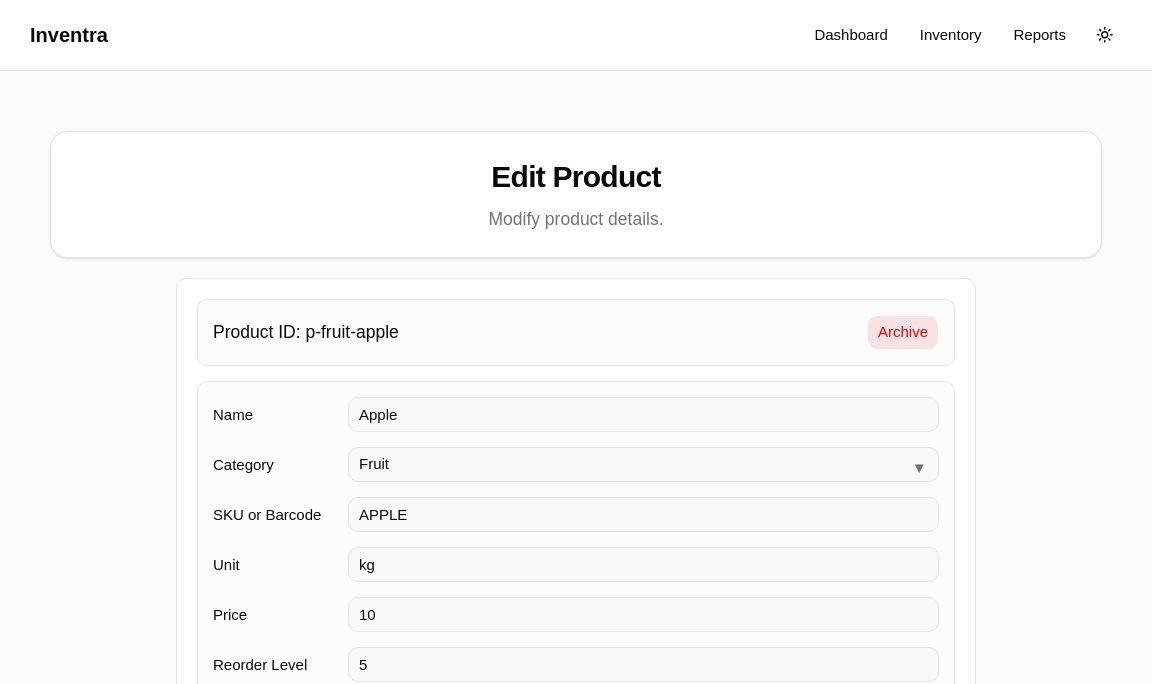
Product Edit Page Tests › requires name, category and unit to submit
The width and height of the screenshot is (1152, 684).
Clear the field labelled "Name": coordinates (644, 414) [348,397,939,432]
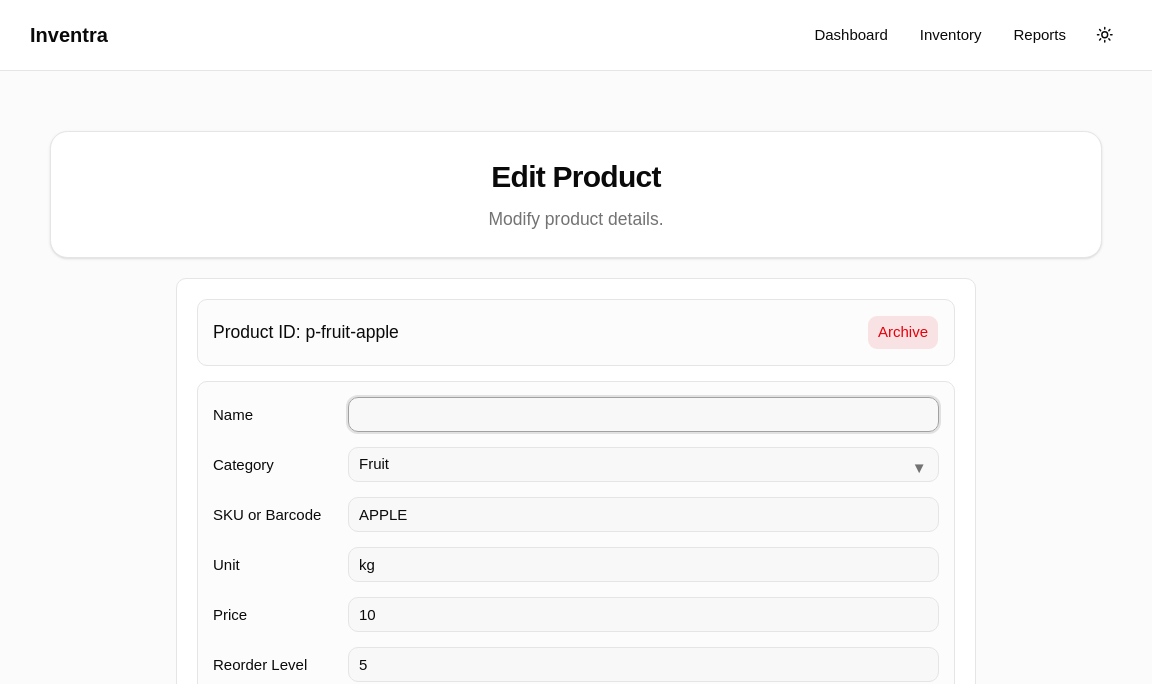
Click the dropdown named "category": coordinates (374, 464) [348,447,939,482]
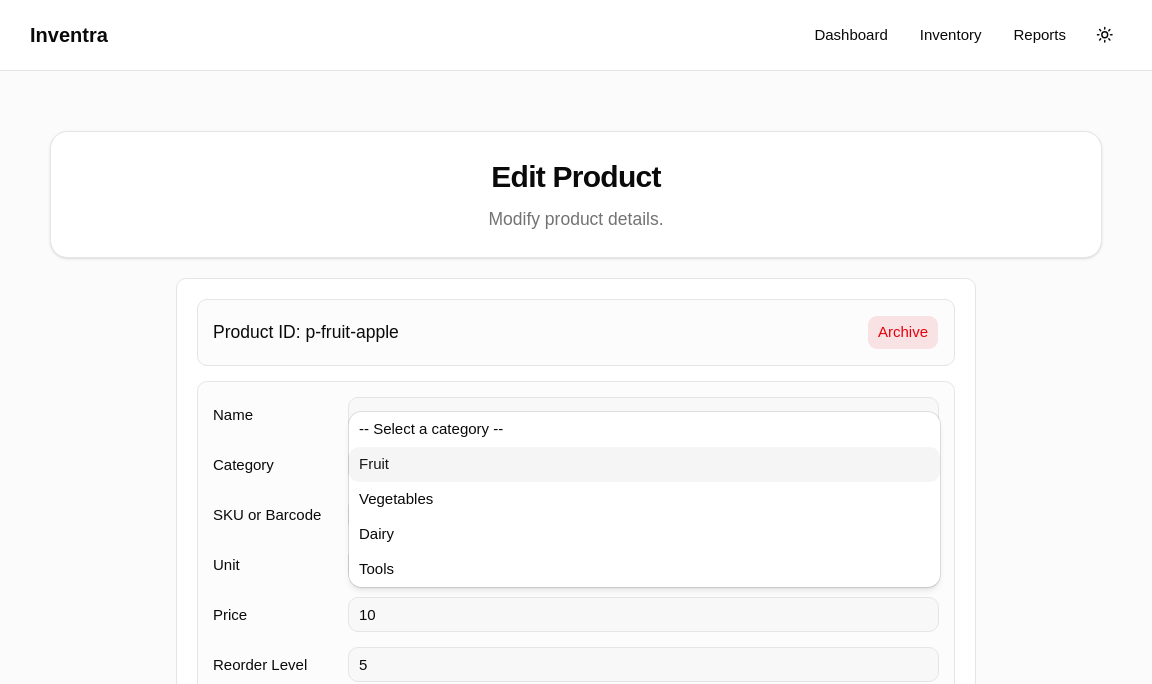
Click the option "-- Select a category --": coordinates (431, 429) [359,420,503,437]
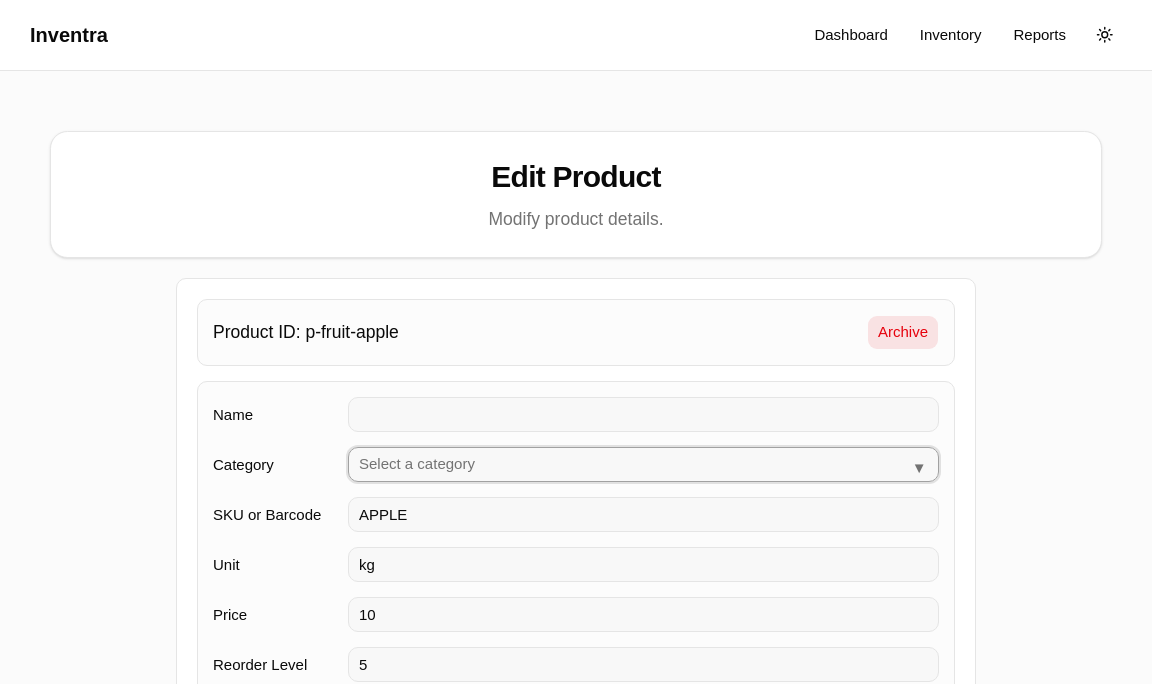
Clear the field labelled "Unit": coordinates (644, 564) [348,547,939,582]
(page scrolled)
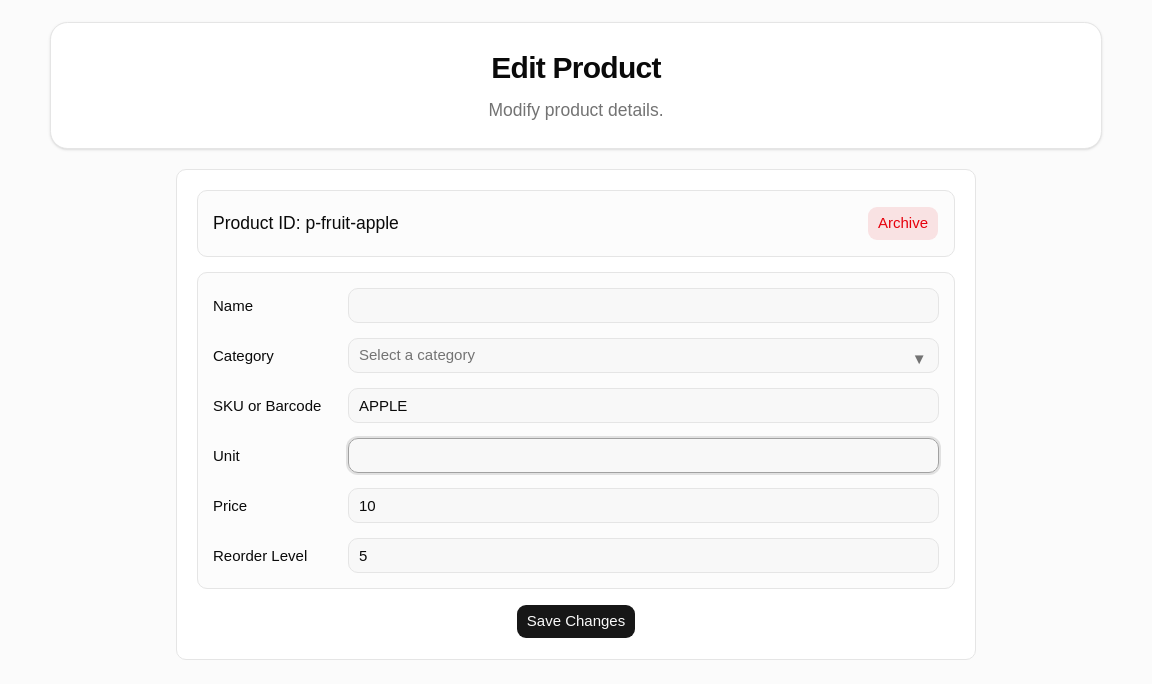
Click the button "Save Changes": coordinates (576, 622) [516,604,636,639]
(page scrolled)
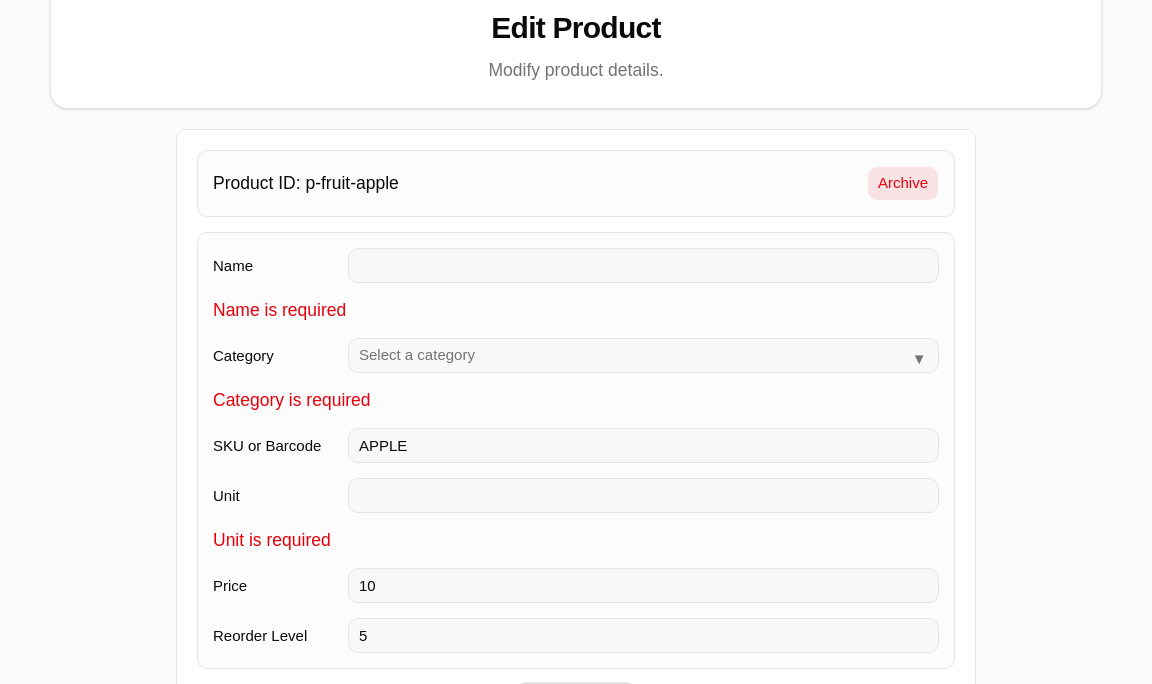
Now the text "Name is required" is shown, box [213,300,346,320]
Now the text "Category is required" is shown, box [213,390,371,410]
Now the text "Unit is required" is shown, box [213,530,331,550]
